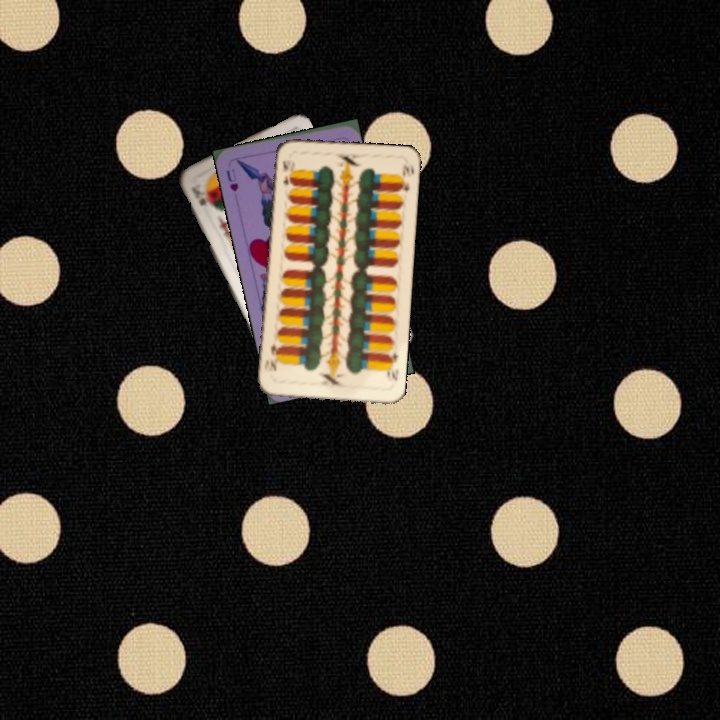E10: (383, 349, 401, 383), (279, 156, 295, 187)
HU: (222, 165, 241, 194)
SK: (191, 184, 210, 208)
